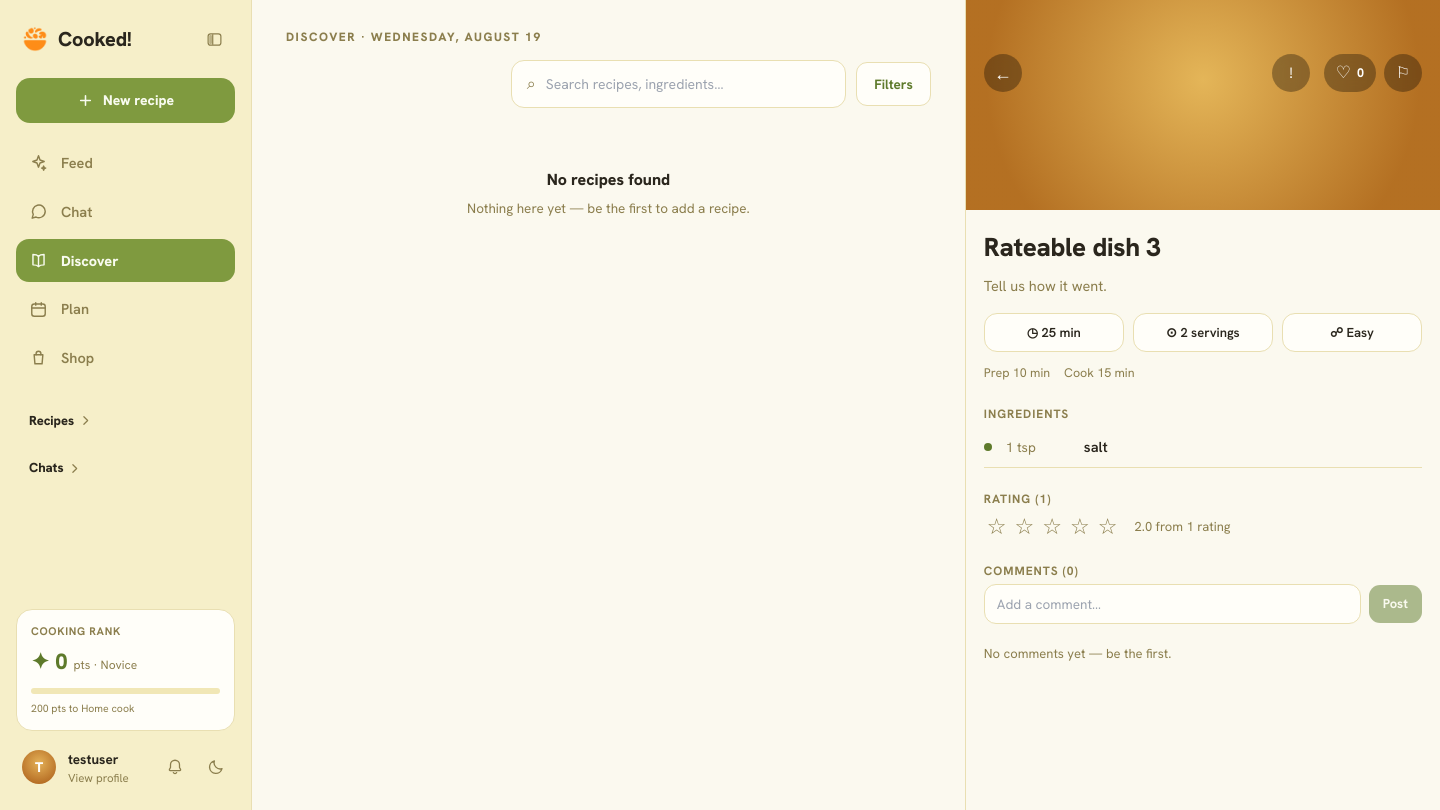
Test: the rating control › sends the picked star and recomputes the average without a refetch
The width and height of the screenshot is (1440, 810).
Check: the text "2.0 from 1 rating" is shown, box [1134, 517, 1230, 536]
Step 1. Click the button named "Rate 4 out of 5" → coordinates (1080, 527), box [1067, 514, 1093, 540]
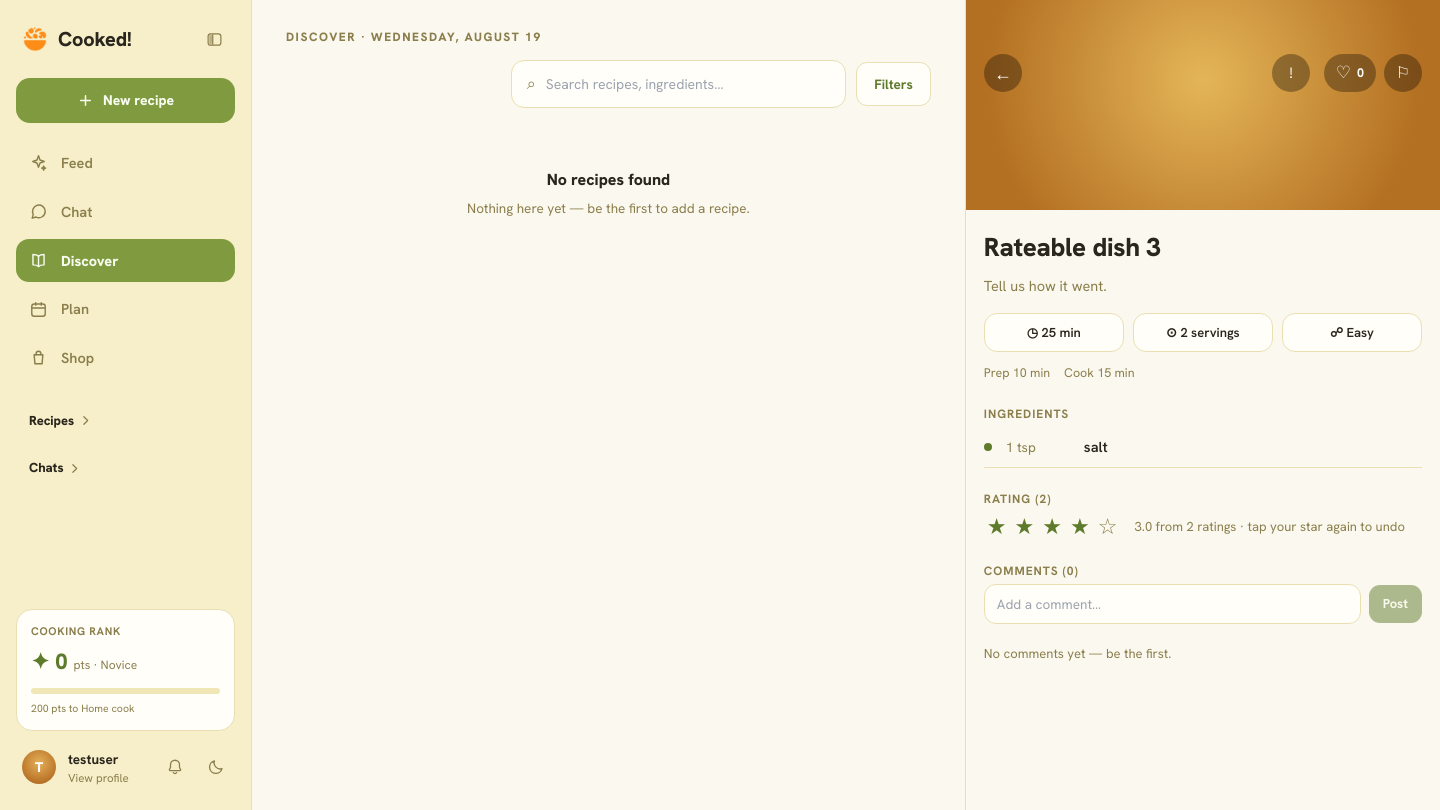
Check: the text "3.0 from 2 ratings · tap your star again to undo" is shown, box [1134, 517, 1405, 536]
